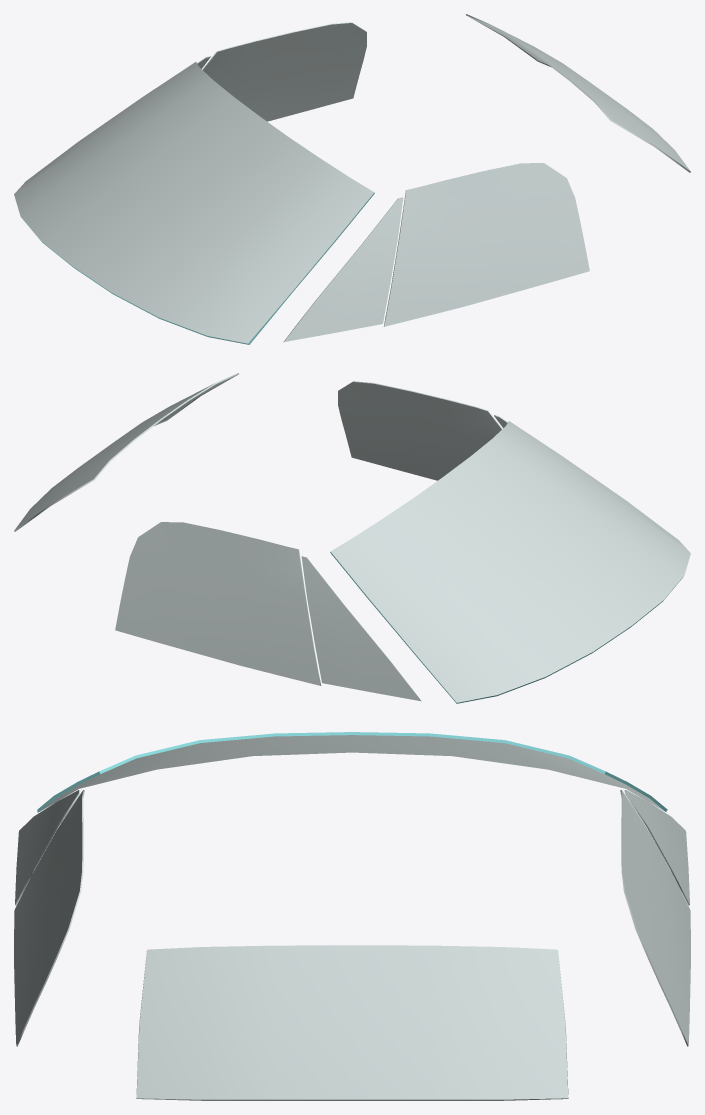
File: Z3_Glass.FBX
The picture shows the model from 3 angles, top to bottom: view 1: azimuth 30°, elevation 25°; view 2: azimuth 150°, elevation 25°; view 3: azimuth 270°, elevation 25°; orthographic projection. The views are drawn at different scales.
Parts seen in each view (by area): view 1: Z3_front_glass, Z3_left_glass, Z3_right_glass, Z3_left_glass_small, Z3_back_glass; view 2: Z3_front_glass, Z3_right_glass, Z3_left_glass, Z3_right_glass_small, Z3_back_glass; view 3: Z3_back_glass, Z3_front_glass, Z3_left_glass, Z3_right_glass, Z3_left_glass_small, Z3_right_glass_small.
Boxes of the visible parts, x1,y1,x2,y2 form: Z3_front_glass: (14, 62, 374, 344); Z3_left_glass: (383, 163, 589, 326); Z3_right_glass: (202, 22, 366, 121); Z3_left_glass_small: (283, 197, 403, 342); Z3_back_glass: (466, 14, 690, 172); Z3_front_glass: (330, 421, 690, 703); Z3_right_glass: (115, 522, 321, 685); Z3_left_glass: (338, 381, 501, 480); Z3_right_glass_small: (301, 556, 421, 701); Z3_back_glass: (14, 373, 238, 531); Z3_back_glass: (136, 945, 568, 1100); Z3_front_glass: (37, 732, 667, 812); Z3_left_glass: (14, 790, 84, 1046); Z3_right_glass: (620, 790, 690, 1046); Z3_left_glass_small: (15, 790, 80, 905); Z3_right_glass_small: (624, 790, 689, 905).
Bounding box in the file's own units: 318 × 68.03 × 238.
